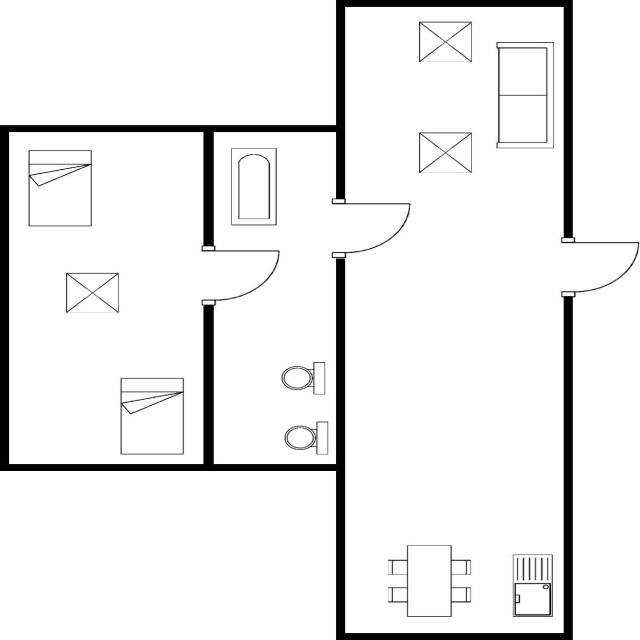bed: (22, 145, 96, 229), (115, 373, 188, 458)
coffee_table: (60, 269, 127, 316), (411, 129, 477, 176), (412, 19, 477, 66)
dining_table: (381, 541, 479, 624)
large_sink: (279, 415, 332, 460), (274, 358, 328, 398)
large_sofa: (491, 36, 558, 152)
sink: (502, 550, 558, 621)
tub: (223, 144, 283, 230)
